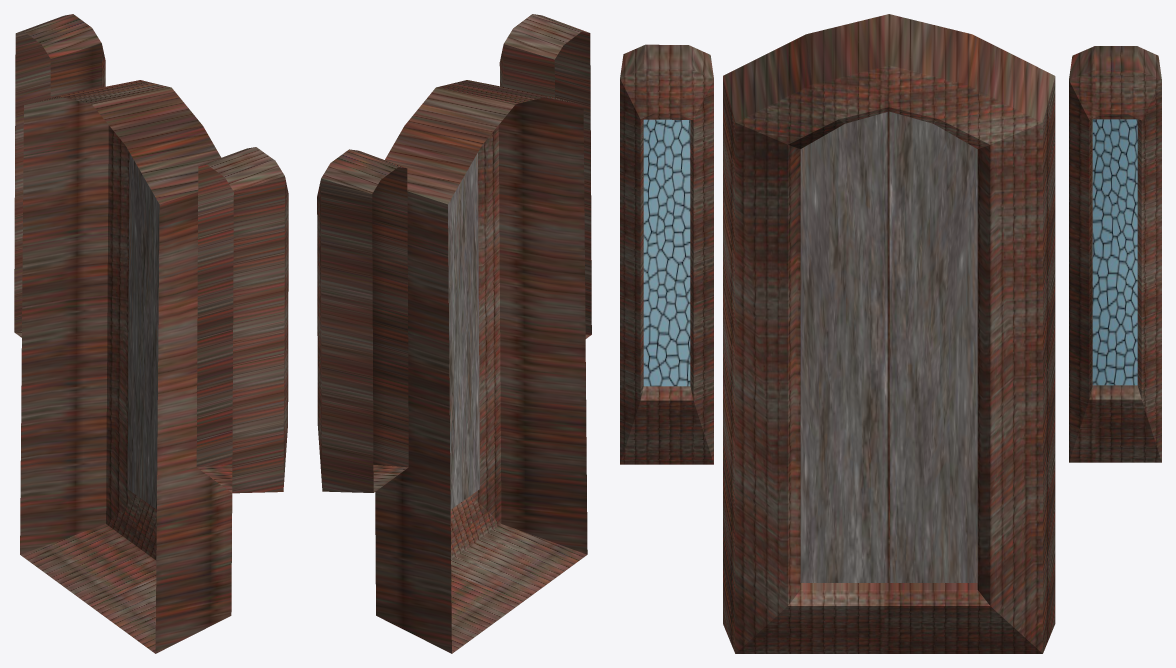
The model's file is kosciol_wnetrze_drzwi.fbx.
3 renders of one model, left to right at view 1: azimuth 30°, elevation 25°; view 2: azimuth 150°, elevation 25°; view 3: azimuth 270°, elevation 25°, orthographic. The views are drawn at different scales.
Visible parts, largest first — view 1: oknabok; view 2: oknabok; view 3: oknabok.
Boxes of the visible parts, left/top/right/bottom form: oknabok: left=14, top=14, right=288, bottom=653; oknabok: left=317, top=14, right=591, bottom=653; oknabok: left=620, top=14, right=1161, bottom=653.
Bounding box in the file's own units: 336 × 1607 × 1290.
1 material, 1 textured.
